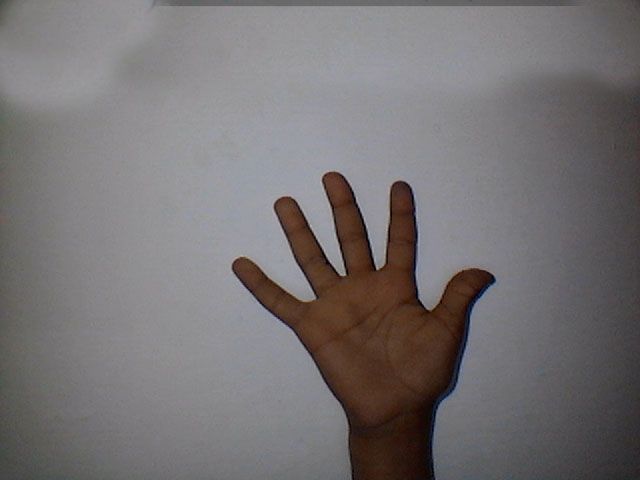hand: (220, 162, 515, 404)
